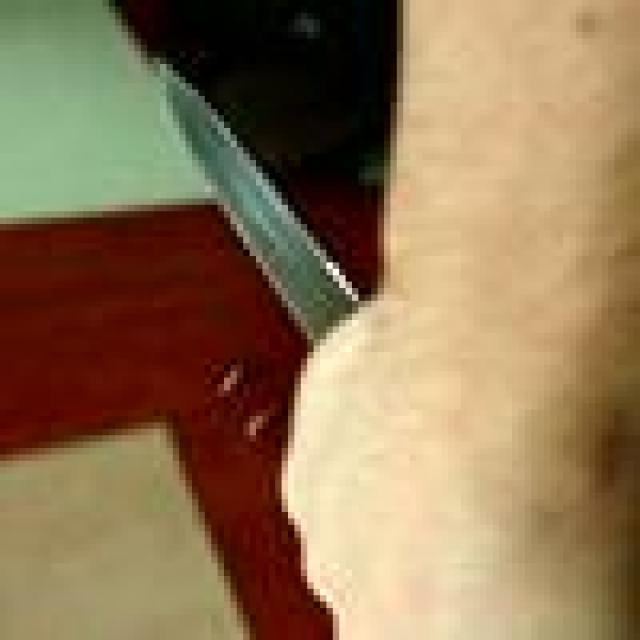knife: (150, 59, 360, 336)
